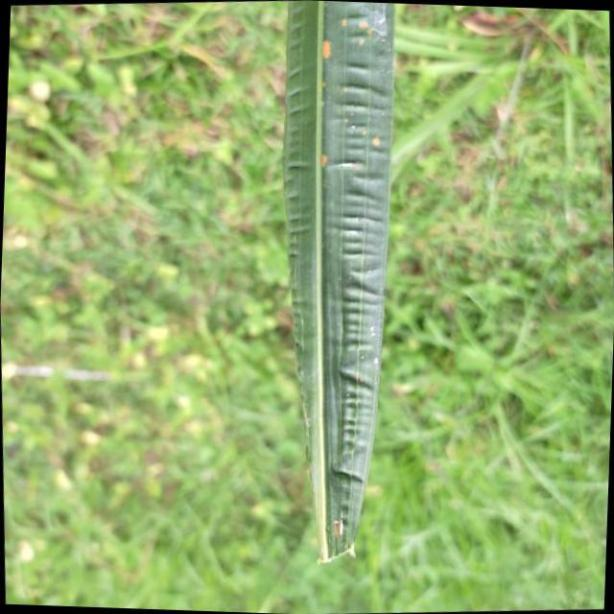Boron: (280, 0, 396, 555)
